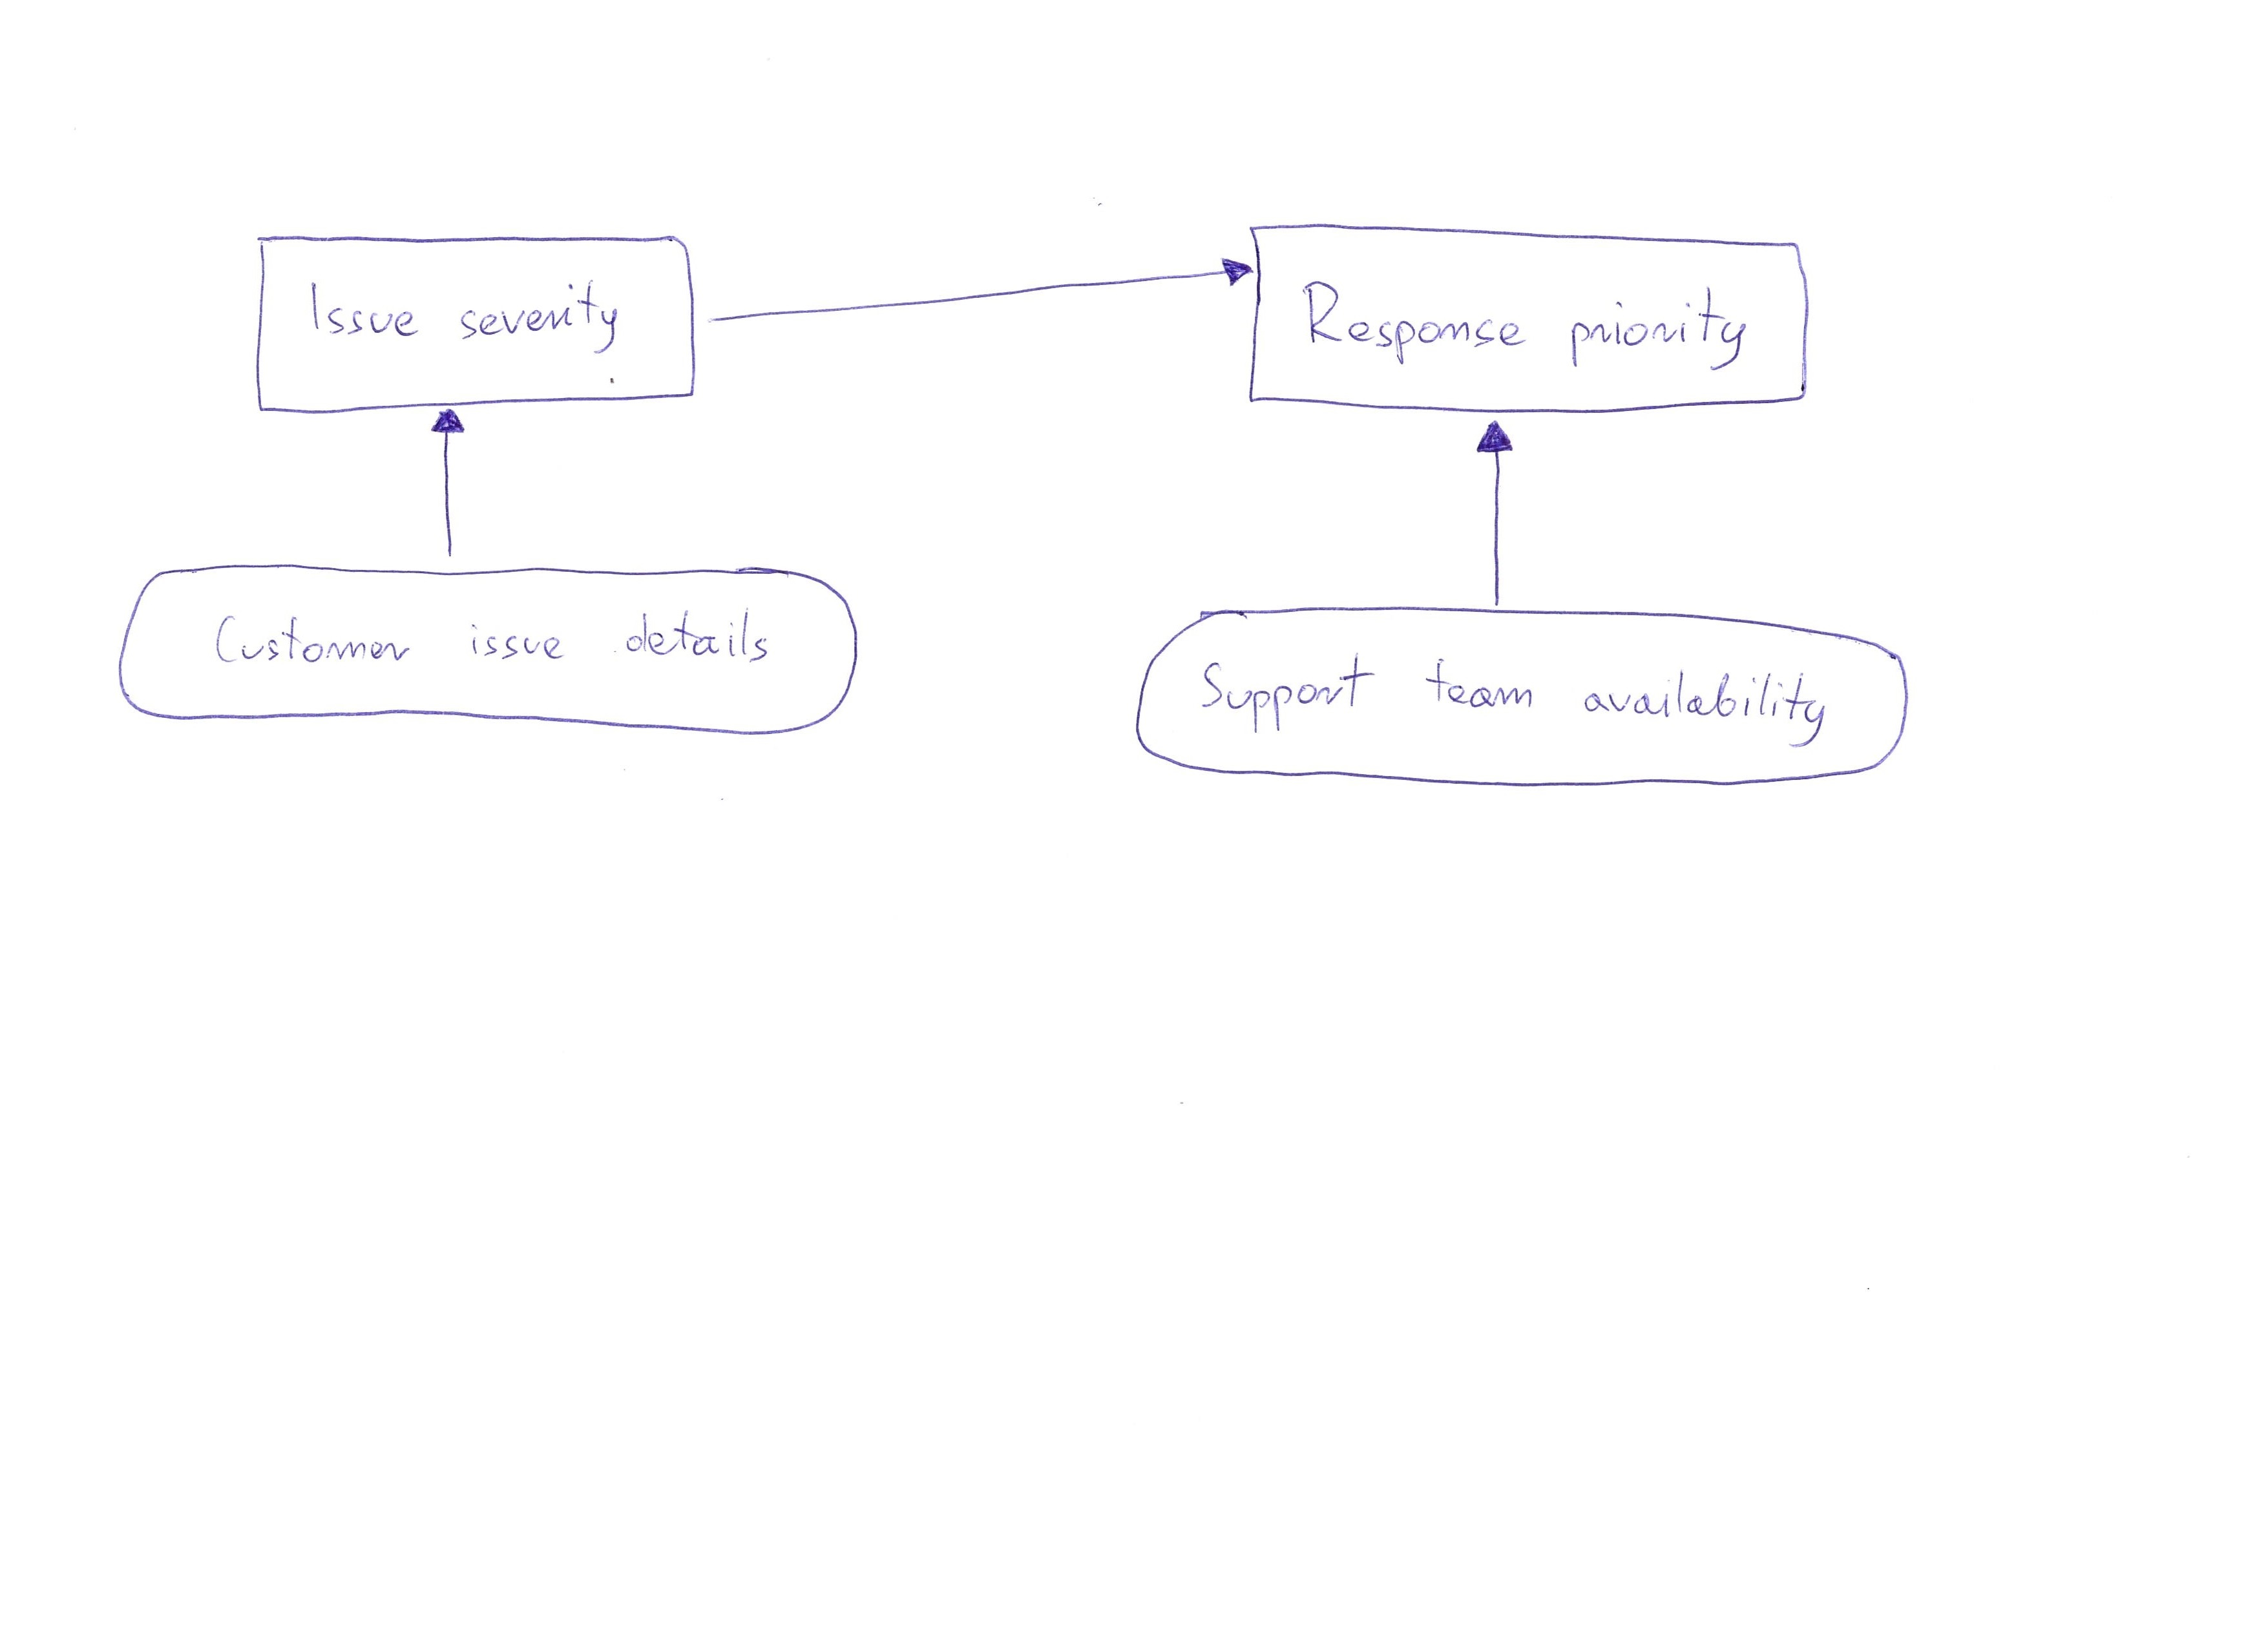arrow_information_requirement: (704, 247, 1248, 354), (1472, 414, 1523, 608), (424, 409, 475, 560)
node_decision: (1248, 218, 1817, 418), (245, 226, 699, 416)
node_input_data: (1130, 606, 1932, 795), (111, 558, 872, 749)
text: (1196, 645, 1849, 759), (202, 594, 794, 691), (1292, 266, 1770, 381), (298, 270, 639, 363)
